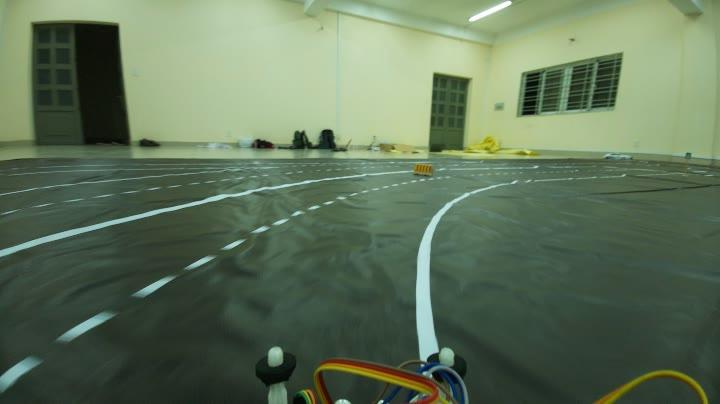roadblock: (410, 160, 436, 177)
